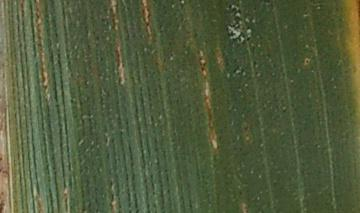tarspot: (238, 121, 252, 133), (302, 56, 311, 66), (238, 188, 245, 198)
